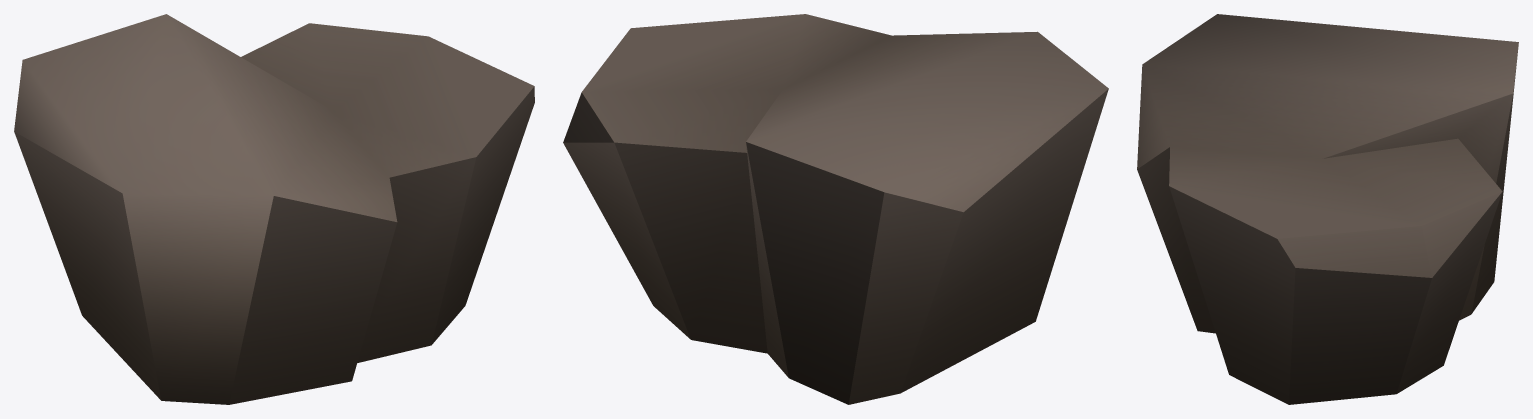
Rendered from rock04_mdl.FBX.
3 views of the same model, side by side, from view 1: azimuth 30°, elevation 25°; view 2: azimuth 150°, elevation 25°; view 3: azimuth 270°, elevation 25° (orthographic). The views are drawn at different scales.
Parts seen in each view (by area): view 1: rock4; view 2: rock4; view 3: rock4.
Boxes of the visible parts, box(x1,y1,x2,y2) form: rock4: box(14, 14, 534, 404); rock4: box(563, 14, 1108, 404); rock4: box(1137, 14, 1518, 404).
Size of the model in its own units: 11.65 by 6.06 by 9.1.
Materials: 1 (1 with a texture image).
